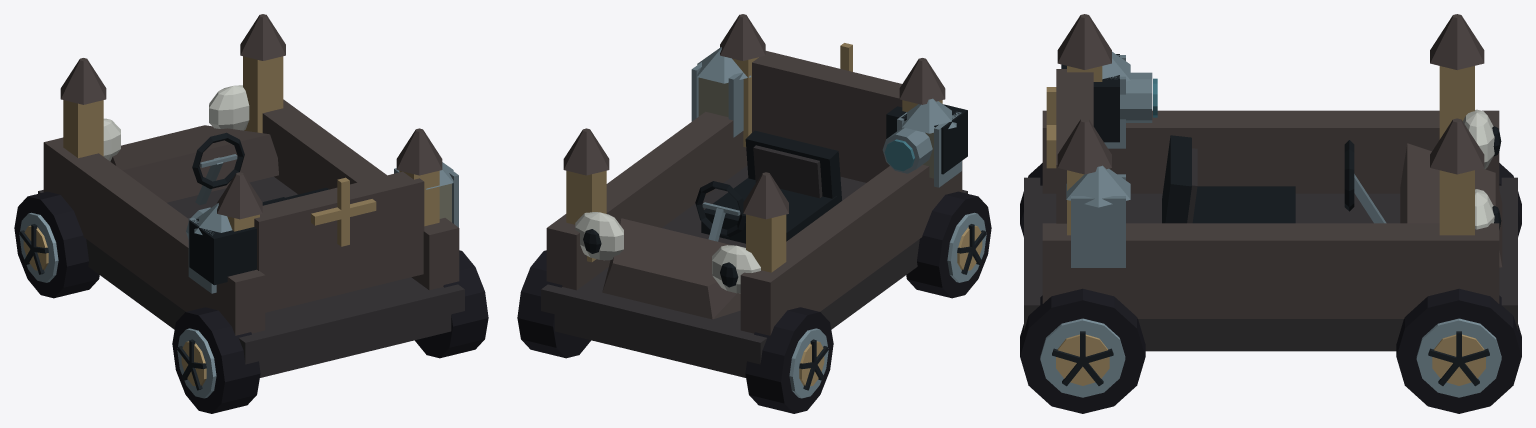
The model's file is kart.glb.
3 renders of one model, left to right at view 1: azimuth 30°, elevation 25°; view 2: azimuth 150°, elevation 25°; view 3: azimuth 270°, elevation 25°, orthographic. The views are drawn at different scales.
Parts seen in each view (by area): view 1: identity-reliquary-reliquary-arched-stone-chest, wheel-rear-left, wheel-front-left, identity-reliquary-motif-camera, wheel-rear-right, identity-reliquary-motif-lanterns, identity-reliquary-motif-eyes, identity-reliquary-driver-cockpit; view 2: identity-reliquary-reliquary-arched-stone-chest, identity-reliquary-driver-cockpit, wheel-front-left, wheel-rear-left, identity-reliquary-motif-lanterns, identity-reliquary-motif-camera, identity-reliquary-motif-eyes, wheel-front-right; view 3: identity-reliquary-reliquary-arched-stone-chest, wheel-front-right, wheel-rear-right, identity-reliquary-driver-cockpit, identity-reliquary-motif-lanterns, identity-reliquary-motif-camera, identity-reliquary-motif-eyes.
Boxes of the visible parts, x1=… form: identity-reliquary-reliquary-arched-stone-chest: x1=38, y1=14, x2=464, y2=377; wheel-rear-left: x1=172, y1=307, x2=260, y2=413; wheel-front-left: x1=14, y1=191, x2=99, y2=298; identity-reliquary-motif-camera: x1=186, y1=207, x2=256, y2=285; wheel-rear-right: x1=415, y1=250, x2=488, y2=358; identity-reliquary-motif-lanterns: x1=188, y1=162, x2=458, y2=293; identity-reliquary-motif-eyes: x1=103, y1=85, x2=249, y2=161; identity-reliquary-driver-cockpit: x1=192, y1=132, x2=329, y2=205; identity-reliquary-reliquary-arched-stone-chest: x1=541, y1=14, x2=967, y2=377; identity-reliquary-driver-cockpit: x1=695, y1=130, x2=841, y2=243; wheel-front-left: x1=745, y1=307, x2=833, y2=413; wheel-rear-left: x1=906, y1=191, x2=991, y2=298; identity-reliquary-motif-lanterns: x1=691, y1=47, x2=961, y2=187; identity-reliquary-motif-camera: x1=882, y1=104, x2=967, y2=174; identity-reliquary-motif-eyes: x1=575, y1=212, x2=760, y2=293; wheel-front-right: x1=517, y1=250, x2=590, y2=358; identity-reliquary-reliquary-arched-stone-chest: x1=1024, y1=14, x2=1517, y2=351; wheel-front-right: x1=1396, y1=288, x2=1521, y2=413; wheel-rear-right: x1=1020, y1=288, x2=1145, y2=413; identity-reliquary-driver-cockpit: x1=1162, y1=135, x2=1386, y2=223; identity-reliquary-motif-lanterns: x1=1066, y1=51, x2=1130, y2=267; identity-reliquary-motif-camera: x1=1061, y1=54, x2=1157, y2=142; identity-reliquary-motif-eyes: x1=1463, y1=109, x2=1501, y2=229.
Bounding box in the file's own units: 1.97 × 1.51 × 2.56.
